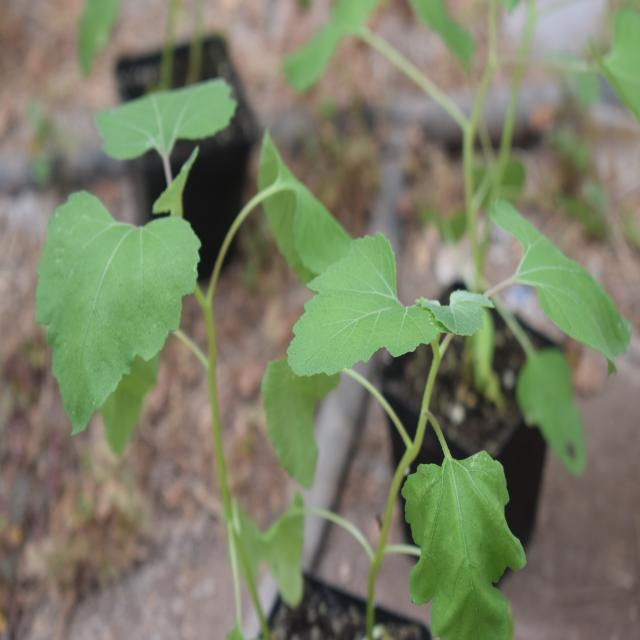cocklebur: (49, 59, 342, 521), (328, 148, 627, 600)
